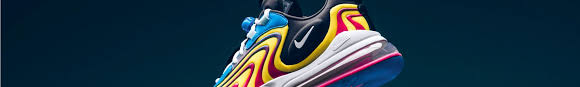nike: (289, 27, 322, 50)
